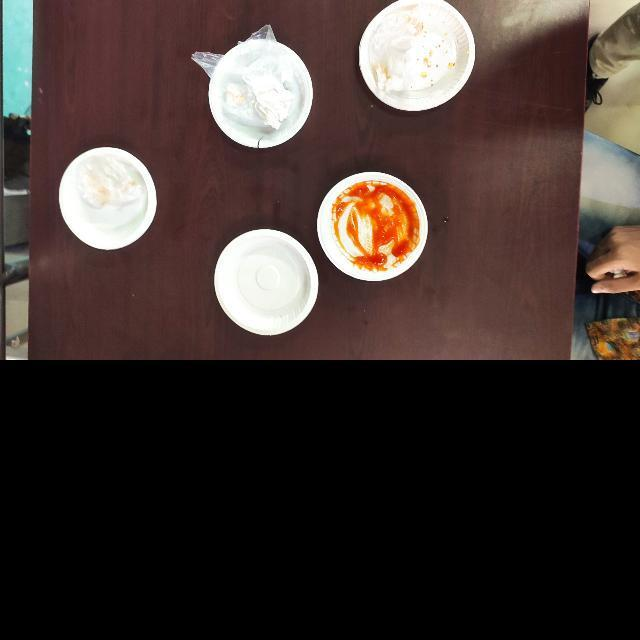kitchen paper: (237, 66, 295, 125)
